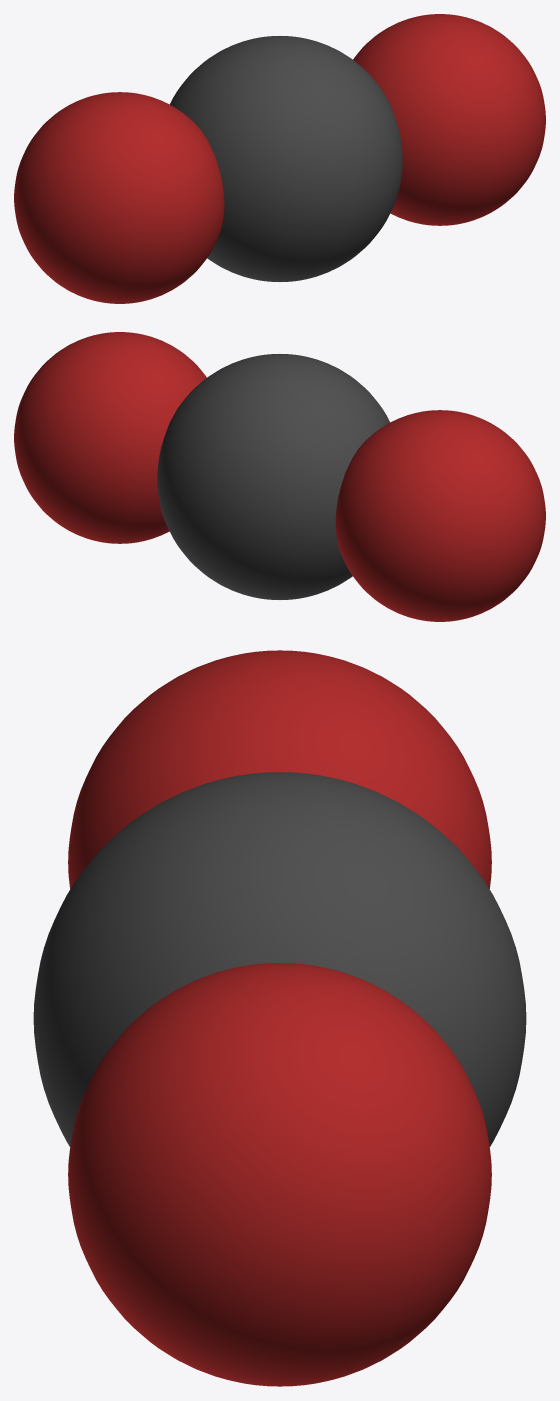
3 views of the same model, one above another, from view 1: azimuth 30°, elevation 25°; view 2: azimuth 150°, elevation 25°; view 3: azimuth 270°, elevation 25° (orthographic). The views are drawn at different scales.
Parts seen in each view (by area): view 1: Sphere, Sphere 2, Sphere 3; view 2: Sphere, Sphere 2, Sphere 3; view 3: Sphere 3, Sphere, Sphere 2.
Part boxes in pixels (x1,y1,x2,y2): Sphere: (170,36,402,281); Sphere 2: (14,92,224,303); Sphere 3: (353,14,545,225); Sphere: (157,354,389,599); Sphere 2: (335,410,545,621); Sphere 3: (14,332,206,543); Sphere 3: (68,963,491,1386); Sphere: (33,772,526,1146); Sphere 2: (68,650,491,888).
Bounding box in the file's own units: 0.472 × 0.2 × 0.2.
